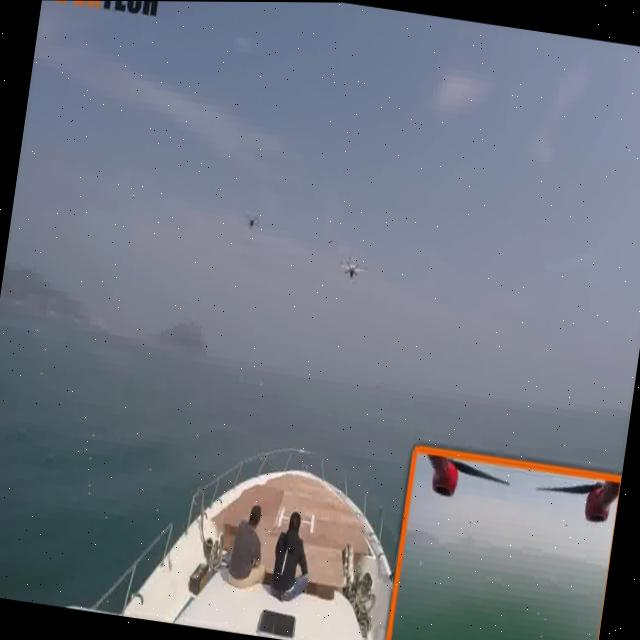drone: (232, 189, 271, 252), (328, 238, 370, 290)
